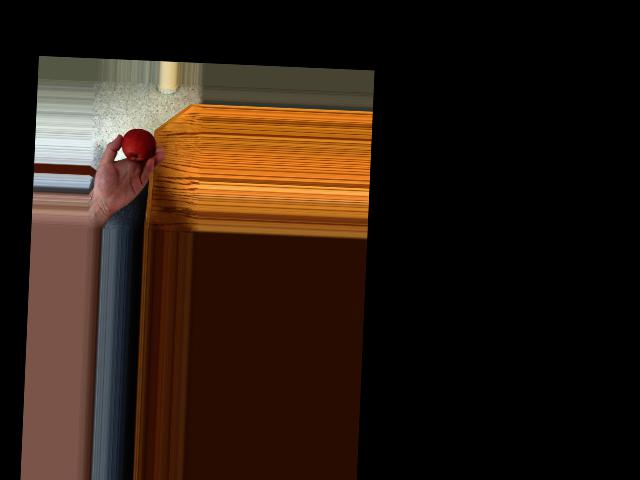apple: (122, 125, 157, 162)
